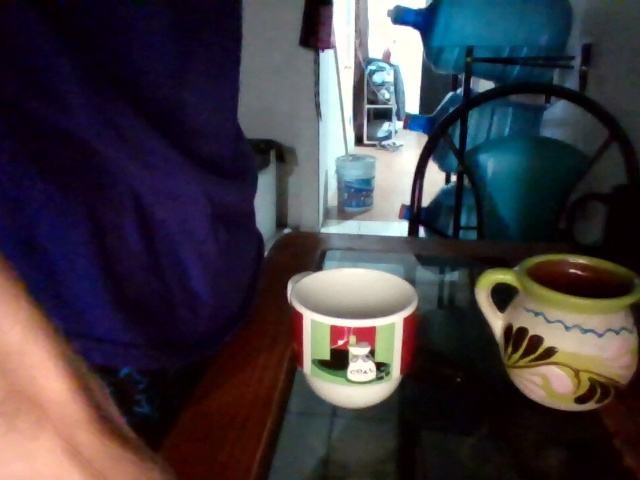taza: (473, 253, 639, 412), (287, 267, 420, 411), (335, 153, 377, 219)
